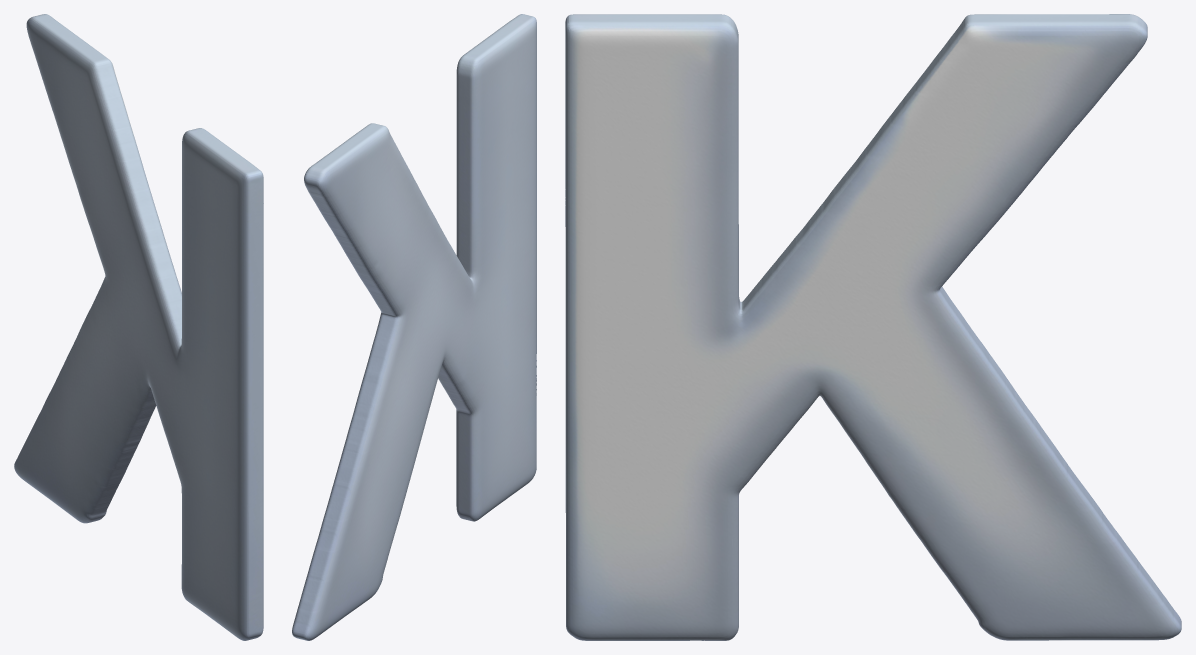
File: lettera k 3d modello.glb
The picture shows the model from 3 angles, left to right: view 1: azimuth 30°, elevation 25°; view 2: azimuth 150°, elevation 25°; view 3: azimuth 270°, elevation 25°; orthographic projection. The views are drawn at different scales.
Visible parts, largest first — view 1: tripo_node_c964f48e-8324-42d6-b0cb-3c8870e6c876; view 2: tripo_node_c964f48e-8324-42d6-b0cb-3c8870e6c876; view 3: tripo_node_c964f48e-8324-42d6-b0cb-3c8870e6c876.
Boxes of the visible parts, left/top/right/bottom form: tripo_node_c964f48e-8324-42d6-b0cb-3c8870e6c876: left=14, top=14, right=263, bottom=640; tripo_node_c964f48e-8324-42d6-b0cb-3c8870e6c876: left=292, top=14, right=536, bottom=640; tripo_node_c964f48e-8324-42d6-b0cb-3c8870e6c876: left=565, top=14, right=1181, bottom=640.
Bounding box in the file's own units: 0.0536 × 1 × 0.902.
1 material, 1 textured.
